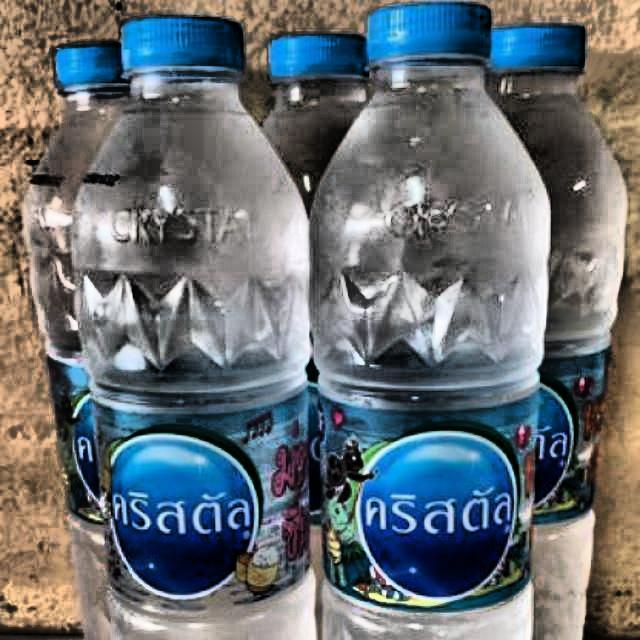Bottles: (302, 0, 553, 636), (80, 4, 322, 640)
